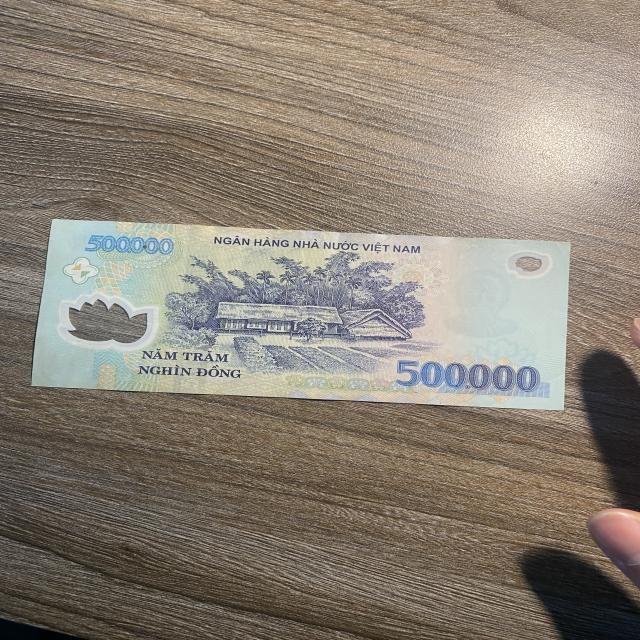500 000 VND: (29, 219, 572, 411)
